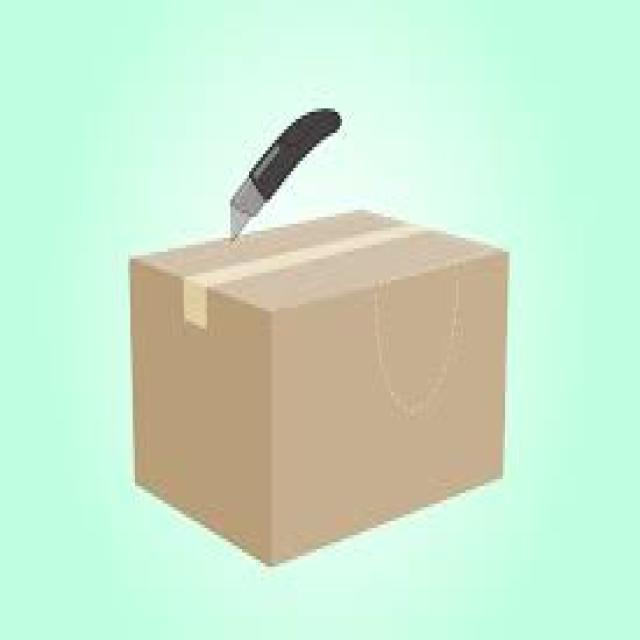cardboard: (126, 206, 507, 563)
metal: (226, 175, 261, 234)
